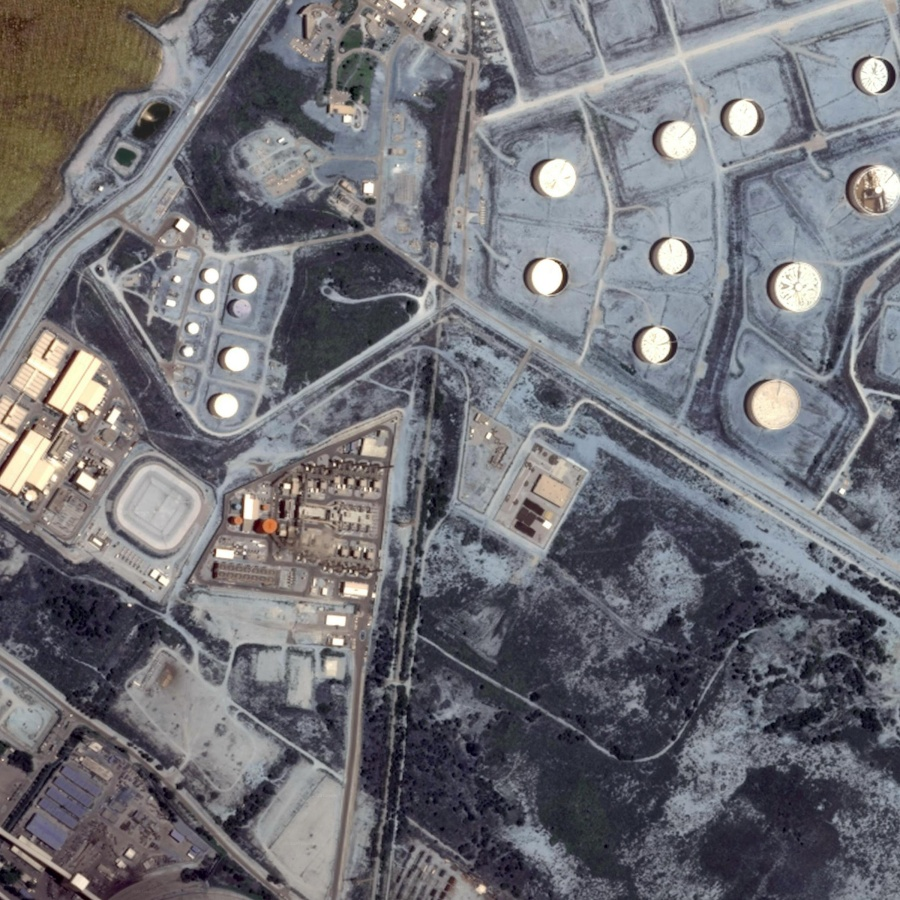PowerPlant: (98, 217, 330, 430)
